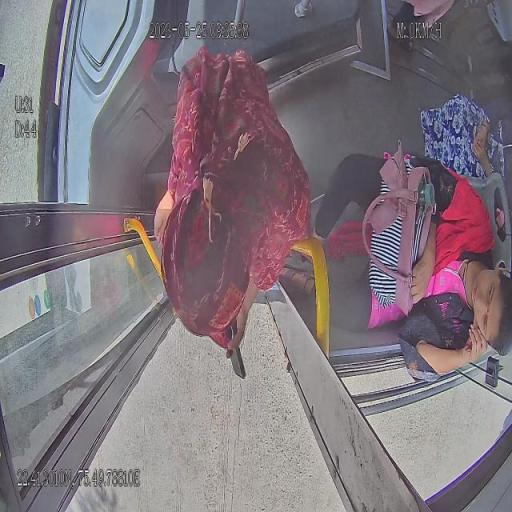persona: (284, 142, 511, 382), (154, 44, 312, 362), (420, 92, 506, 182)
